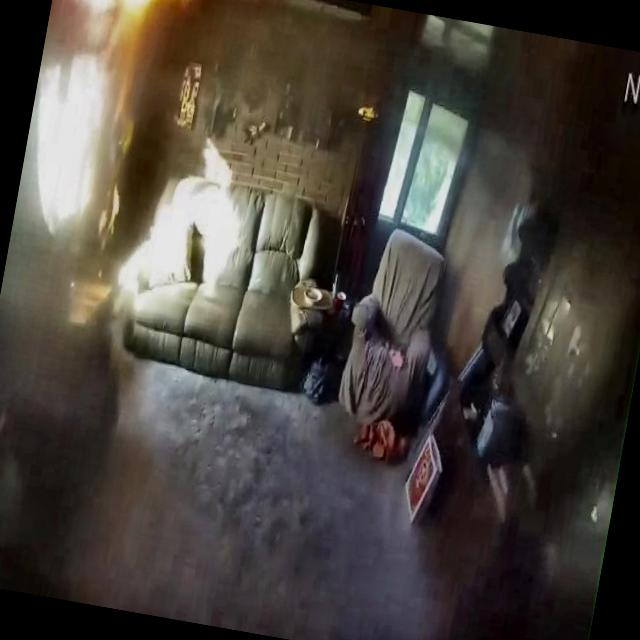fire: (12, 0, 207, 255)
